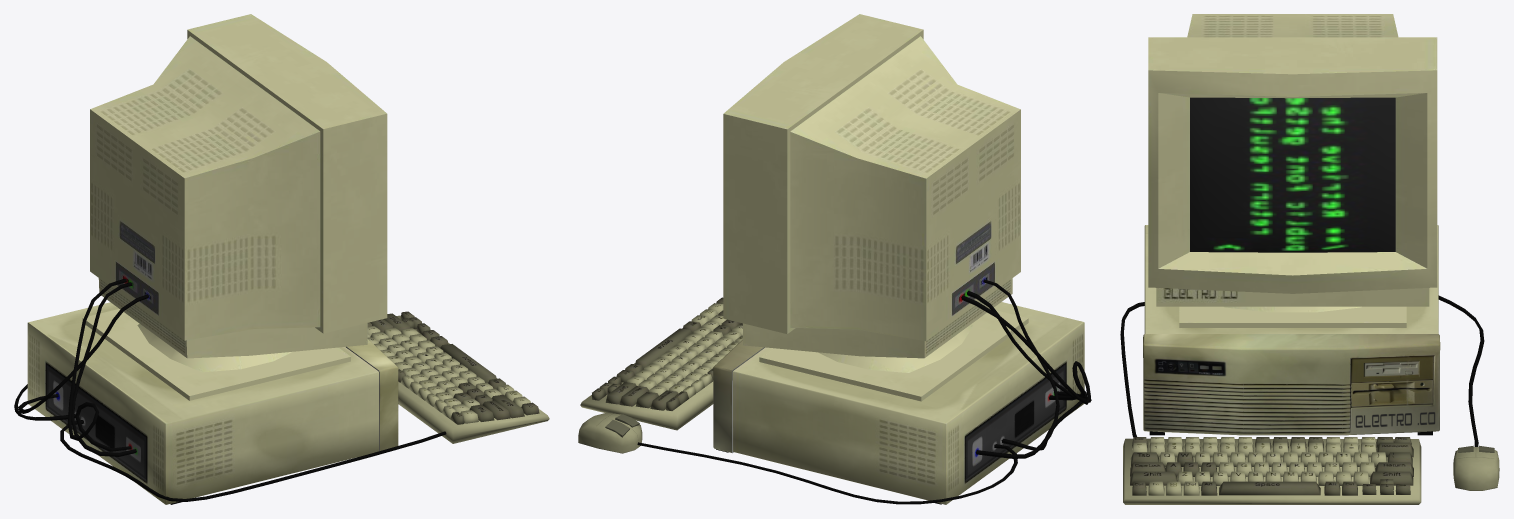
File: retro_computer_90.gltf
3 views of the same model, side by side, from view 1: azimuth 30°, elevation 25°; view 2: azimuth 150°, elevation 25°; view 3: azimuth 270°, elevation 25° (orthographic). The views are drawn at different scales.
Visible parts, largest first — view 1: Monitor_002.007_1, PC_004.007_4, KeyBoard_002.005_0, PC_004.005_10, NurbsPath.020_8, NurbsPath.014_6, NurbsPath.021_9; view 2: Monitor_002.007_1, PC_004.007_4, KeyBoard_002.005_0, PC_004.005_10, Mouse_001.005_3, NurbsPath.020_8, NurbsPath.016_7, NurbsPath.021_9; view 3: Monitor_002.007_1, PC_004.005_10, KeyBoard_002.005_0, PC_004.007_4, Mouse_001.005_3, NurbsPath.016_7, NurbsPath.014_6.
Boxes of the visible parts, <box> form: Monitor_002.007_1: <box>82,14,387,400</box>; PC_004.007_4: <box>27,302,378,504</box>; KeyBoard_002.005_0: <box>367,311,549,443</box>; PC_004.005_10: <box>346,339,398,451</box>; NurbsPath.020_8: <box>67,278,136,456</box>; NurbsPath.014_6: <box>60,420,446,501</box>; NurbsPath.021_9: <box>18,294,148,413</box>; Monitor_002.007_1: <box>723,14,1028,401</box>; PC_004.007_4: <box>716,302,1084,504</box>; KeyBoard_002.005_0: <box>580,297,742,430</box>; PC_004.005_10: <box>713,339,764,453</box>; Mouse_001.005_3: <box>578,412,642,453</box>; NurbsPath.020_8: <box>961,290,1091,404</box>; NurbsPath.016_7: <box>637,442,1017,504</box>; NurbsPath.021_9: <box>976,279,1059,458</box>; Monitor_002.007_1: <box>1148,14,1437,327</box>; PC_004.005_10: <box>1143,334,1440,435</box>; KeyBoard_002.005_0: <box>1123,437,1421,504</box>; PC_004.007_4: <box>1144,225,1438,435</box>; Mouse_001.005_3: <box>1453,445,1499,490</box>; NurbsPath.016_7: <box>1438,295,1484,446</box>; NurbsPath.014_6: <box>1120,302,1144,437</box>.
Bounding box in the file's own units: 0.7459 × 0.5672 × 0.5409.
7 materials, 6 textured.
